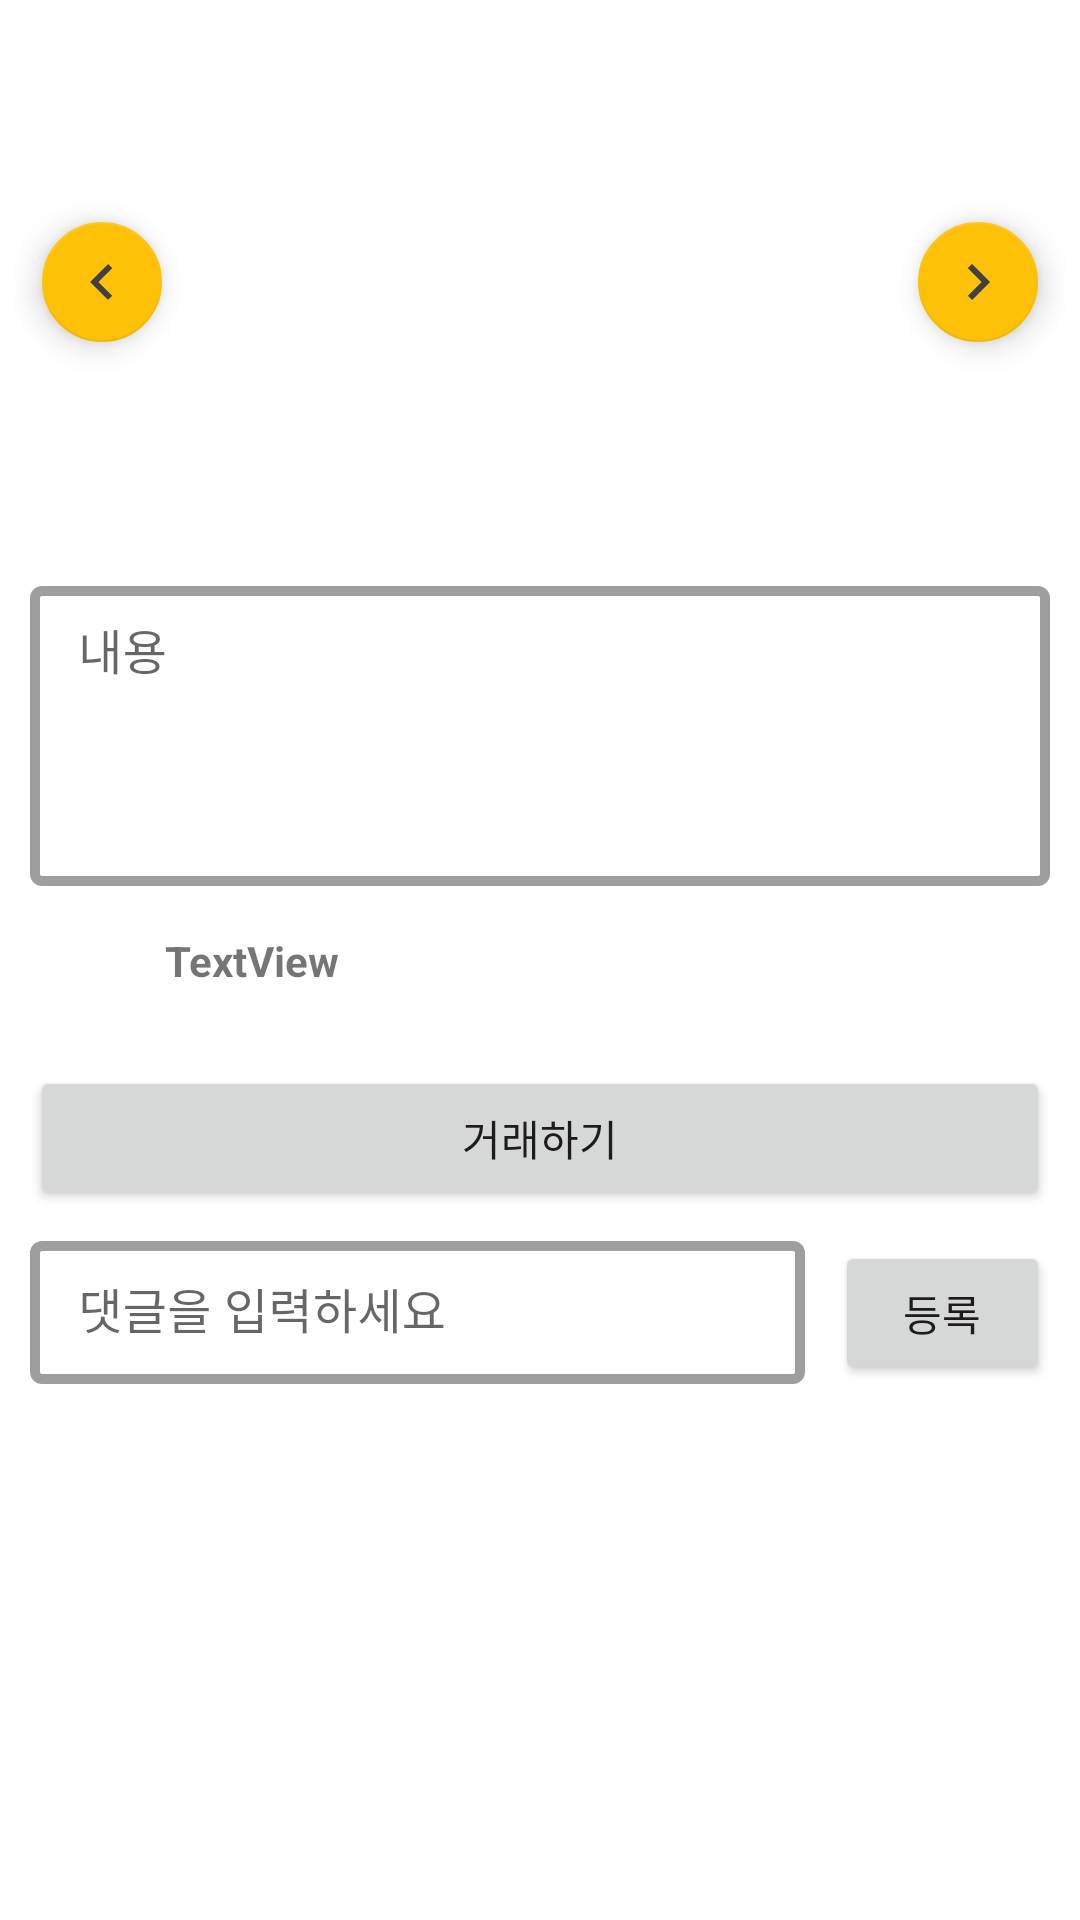

Screen size 1080 × 1920. Icon name, then its center in pixels as (x=x, y=y):
left: (x=101, y=282)
right: (x=979, y=282)
